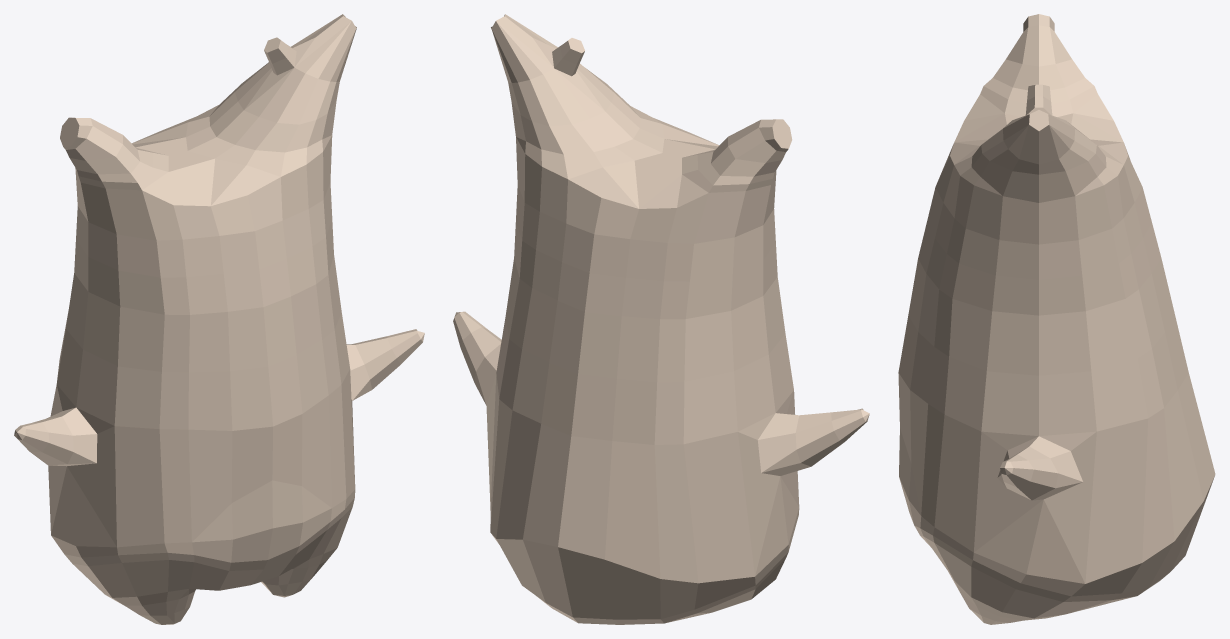
File: frame_0149.obj
The picture shows the model from 3 angles, left to right: view 1: azimuth 30°, elevation 25°; view 2: azimuth 150°, elevation 25°; view 3: azimuth 270°, elevation 25°; orthographic projection.
Visible parts, largest first — view 1: korok; view 2: korok; view 3: korok.
Part boxes in pixels (x1,y1,x2,y2): korok: (14,14,424,624); korok: (453,14,869,624); korok: (898,14,1215,624).
Size of the model in its own units: 1.59 by 2.02 by 1.05.
